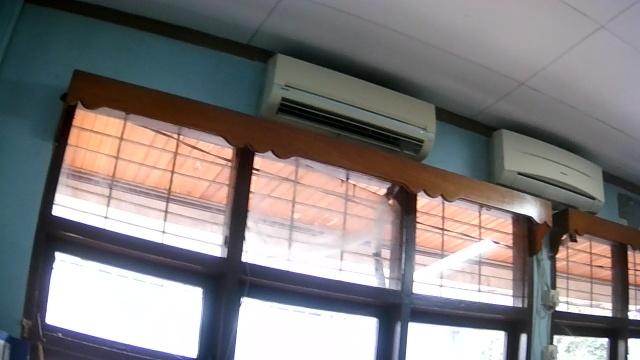AC: (254, 51, 437, 163), (487, 127, 604, 216)
